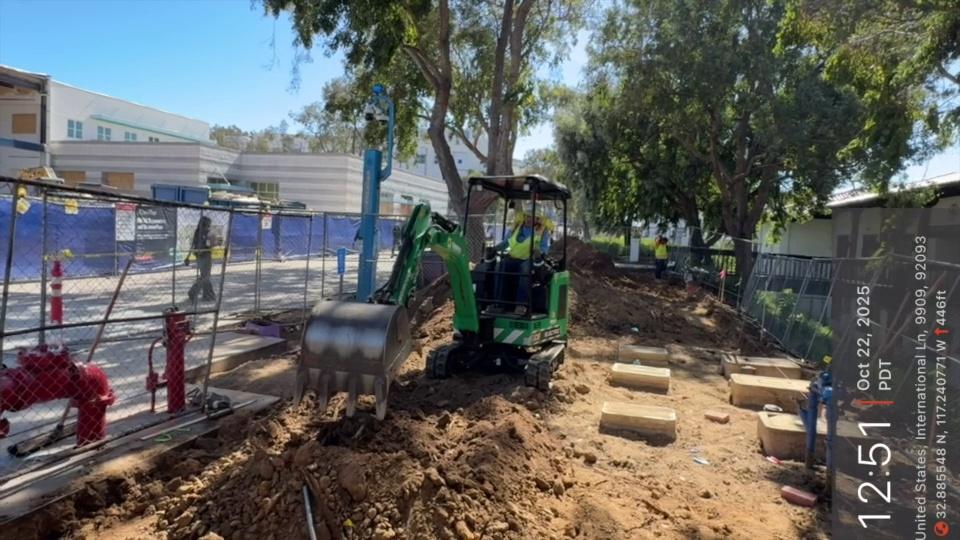Exacavator: (261, 155, 599, 431)
